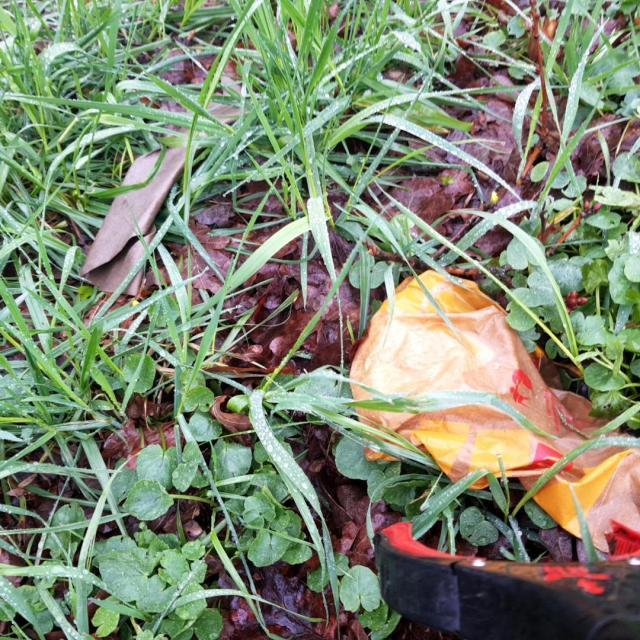Paper: (346, 266, 640, 562)
